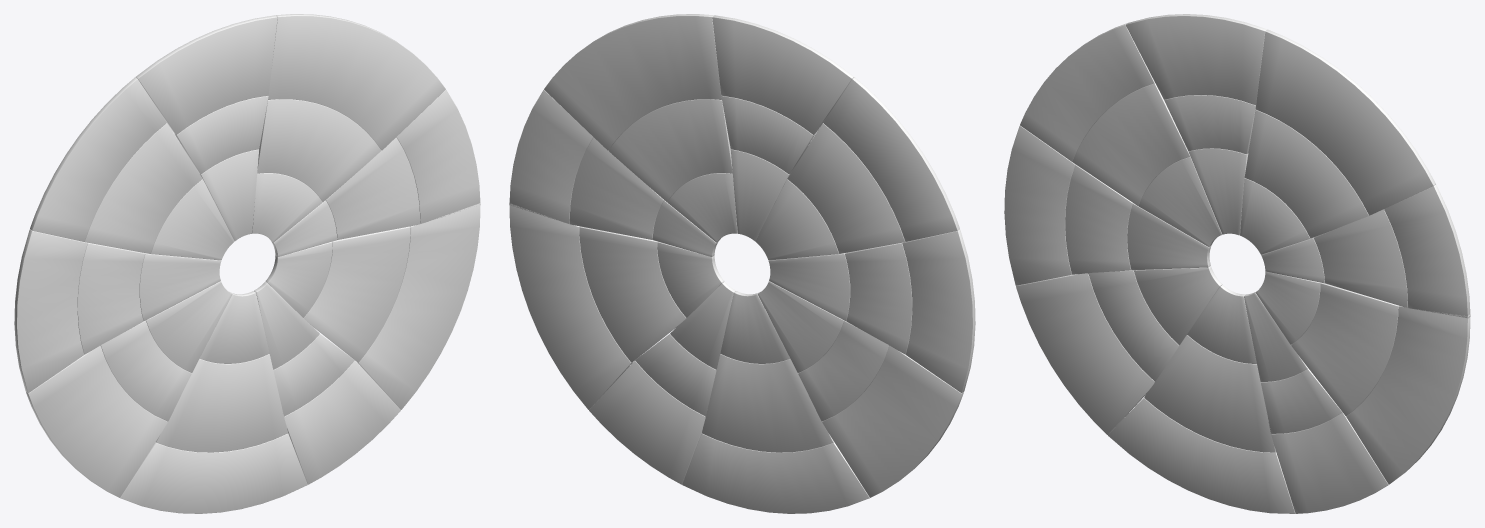
File: disc_shards.glb
The picture shows the model from 3 angles, left to right: view 1: azimuth 30°, elevation 25°; view 2: azimuth 150°, elevation 25°; view 3: azimuth 330°, elevation 25°; orthographic projection.
Visible parts, largest first — view 1: shard_05_999_1262_1401, shard_26_862_1449_0801, shard_17_775_0612_0707, shard_20_701_0916_0498, shard_08_651_0911_1487, shard_11_615_0615_1337, shard_19_640_0945_0670, shard_14_593_0491_1014, shard_25_598_1281_0875, shard_04_565_1162_1249, shard_10_551_0737_1230, shard_23_517_1230_0559 (+15 smaller); view 2: shard_05_999_1262_1401, shard_26_862_1449_0801, shard_17_775_0612_0707, shard_20_701_0916_0498, shard_08_651_0911_1487, shard_11_615_0615_1337, shard_19_640_0945_0670, shard_14_593_0491_1014, shard_25_598_1281_0875, shard_04_565_1162_1249, shard_10_551_0737_1230, shard_23_517_1230_0559 (+15 smaller); view 3: shard_05_999_1262_1401, shard_26_862_1449_0801, shard_17_775_0612_0707, shard_20_701_0916_0498, shard_08_651_0911_1487, shard_19_640_0945_0670, shard_11_615_0615_1337, shard_25_598_1281_0875, shard_14_593_0491_1014, shard_04_565_1162_1249, shard_10_551_0737_1230, shard_23_517_1230_0559 (+15 smaller).
Part boxes in pixels (x1,y1,x2,y2): shard_05_999_1262_1401: (268, 14, 445, 150); shard_26_862_1449_0801: (357, 203, 480, 409); shard_17_775_0612_0707: (26, 345, 167, 497); shard_20_701_0916_0498: (120, 433, 307, 513); shard_08_651_0911_1487: (135, 15, 277, 134); shard_11_615_0615_1337: (30, 77, 166, 241); shard_19_640_0945_0670: (156, 354, 287, 452); shard_14_593_0491_1014: (14, 229, 87, 393); shard_25_598_1281_0875: (303, 226, 410, 362); shard_04_565_1162_1249: (257, 99, 381, 201); shard_10_551_0737_1230: (84, 123, 202, 253); shard_23_517_1230_0559: (284, 361, 400, 484); shard_05_999_1262_1401: (544, 14, 721, 150); shard_26_862_1449_0801: (509, 203, 632, 409); shard_17_775_0612_0707: (822, 345, 963, 497); shard_20_701_0916_0498: (682, 433, 869, 513); shard_08_651_0911_1487: (712, 15, 854, 134); shard_11_615_0615_1337: (823, 77, 959, 241); shard_19_640_0945_0670: (702, 354, 833, 452); shard_14_593_0491_1014: (902, 229, 975, 393); shard_25_598_1281_0875: (579, 226, 686, 362); shard_04_565_1162_1249: (608, 99, 732, 201); shard_10_551_0737_1230: (787, 123, 905, 253); shard_23_517_1230_0559: (589, 361, 705, 484); shard_05_999_1262_1401: (1255, 29, 1435, 215); shard_26_862_1449_0801: (1346, 306, 1470, 484); shard_17_775_0612_0707: (1016, 273, 1154, 434); shard_20_701_0916_0498: (1108, 398, 1295, 513); shard_08_651_0911_1487: (1125, 14, 1267, 105); shard_19_640_0945_0670: (1144, 335, 1275, 452); shard_11_615_0615_1337: (1020, 23, 1154, 161); shard_25_598_1281_0875: (1291, 282, 1398, 416); shard_14_593_0491_1014: (1004, 125, 1075, 285); shard_04_565_1162_1249: (1244, 110, 1368, 238); shard_10_551_0737_1230: (1072, 83, 1190, 205); shard_23_517_1230_0559: (1271, 412, 1388, 513).
Size of the model in its own units: 0.12 by 0.1199 by 0.0012.
Materials: 27 (27 with a texture image).
